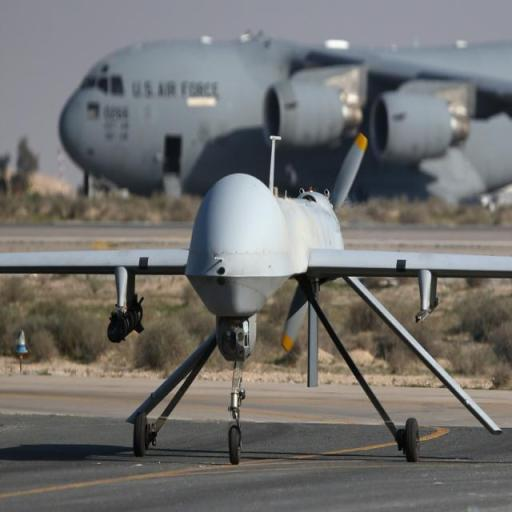uav: (16, 131, 512, 467)
